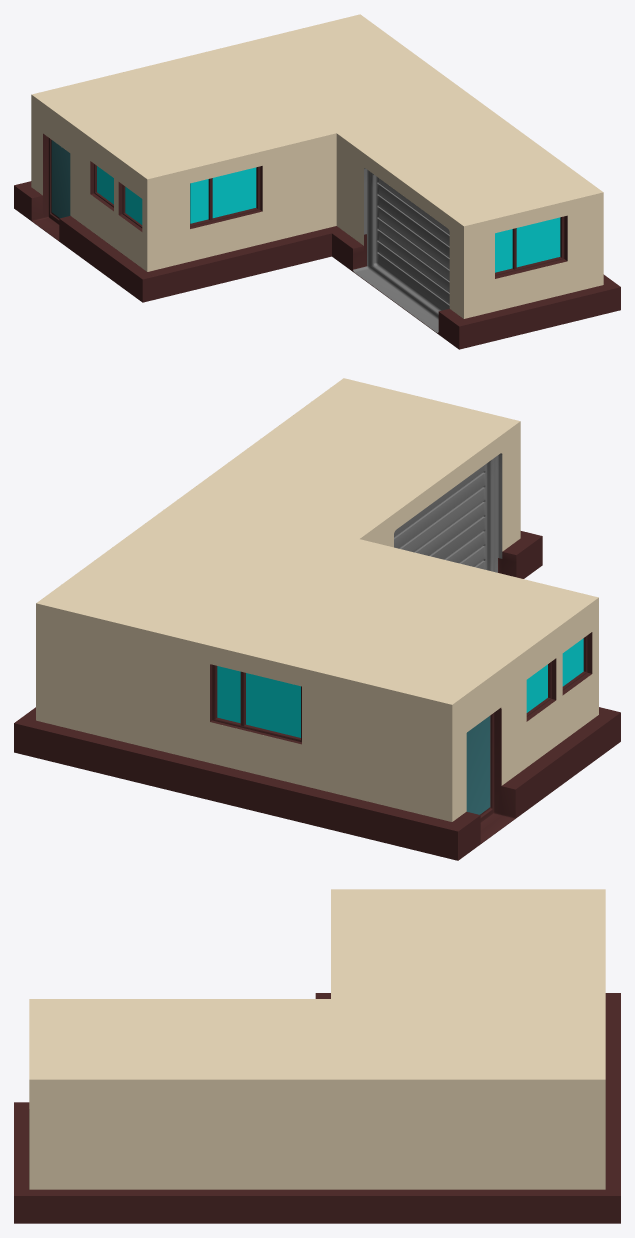
The model's file is Main House2.fbx.
3 renders of one model, top to bottom at view 1: azimuth 30°, elevation 25°; view 2: azimuth 150°, elevation 25°; view 3: azimuth 270°, elevation 25°, orthographic. The views are drawn at different scales.
Visible parts, largest first — view 1: Plane.003; view 2: Plane.003; view 3: Plane.003.
Boxes of the visible parts, left/top/right/bottom form: Plane.003: left=14, top=14, right=620, bottom=349; Plane.003: left=14, top=378, right=620, bottom=860; Plane.003: left=14, top=889, right=620, bottom=1223.
Bounding box in the file's own units: 634 × 200 × 800.
